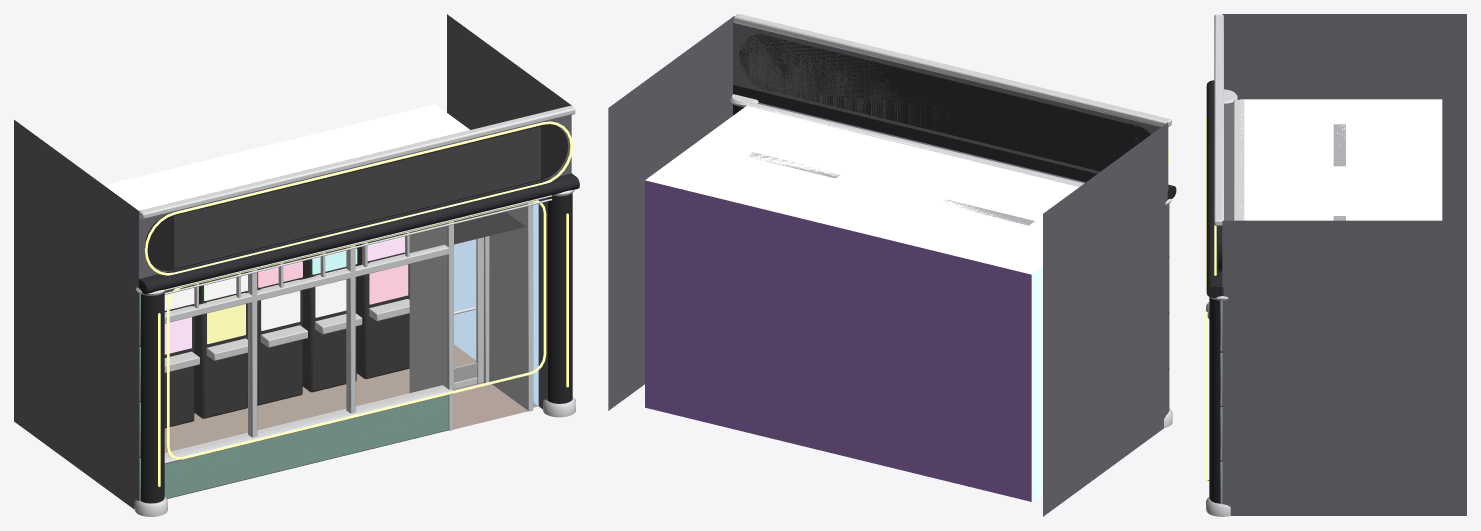
The model's file is retro_shop_lit_6b.glb.
3 views of the same model, side by side, from view 1: azimuth 30°, elevation 25°; view 2: azimuth 150°, elevation 25°; view 3: azimuth 270°, elevation 25° (orthographic). The views are drawn at different scales.
Visible parts, largest first — view 1: retro_shop_lit_6b; view 2: retro_shop_lit_6b; view 3: retro_shop_lit_6b.
Part boxes in pixels (left/top/right/bottom): retro_shop_lit_6b: left=14, top=14, right=579, bottom=516; retro_shop_lit_6b: left=608, top=14, right=1176, bottom=516; retro_shop_lit_6b: left=1205, top=14, right=1466, bottom=516.
Size of the model in its own units: 6.06 by 4 by 3.21.
